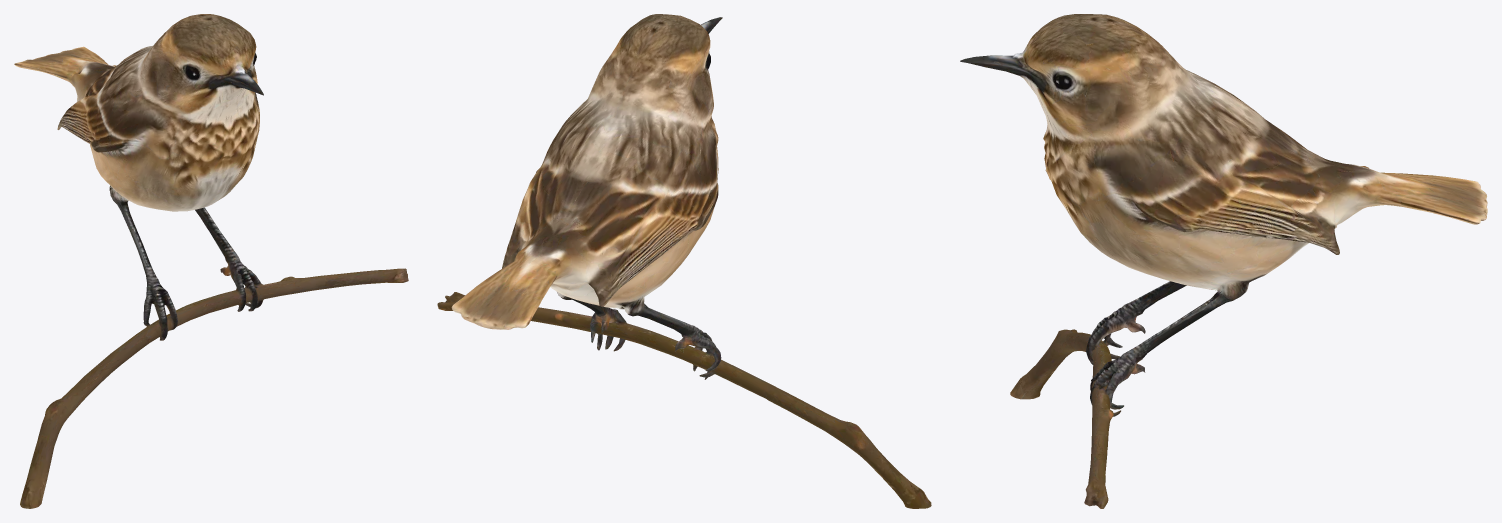
File: bird-tjiftjaf.glb
3 renders of one model, left to right at view 1: azimuth 30°, elevation 25°; view 2: azimuth 150°, elevation 25°; view 3: azimuth 270°, elevation 25°, orthographic. The views are drawn at different scales.
Bounding box in the file's own units: 1.91 × 1.8 × 1.73.
Materials: 1 (1 with a texture image).
